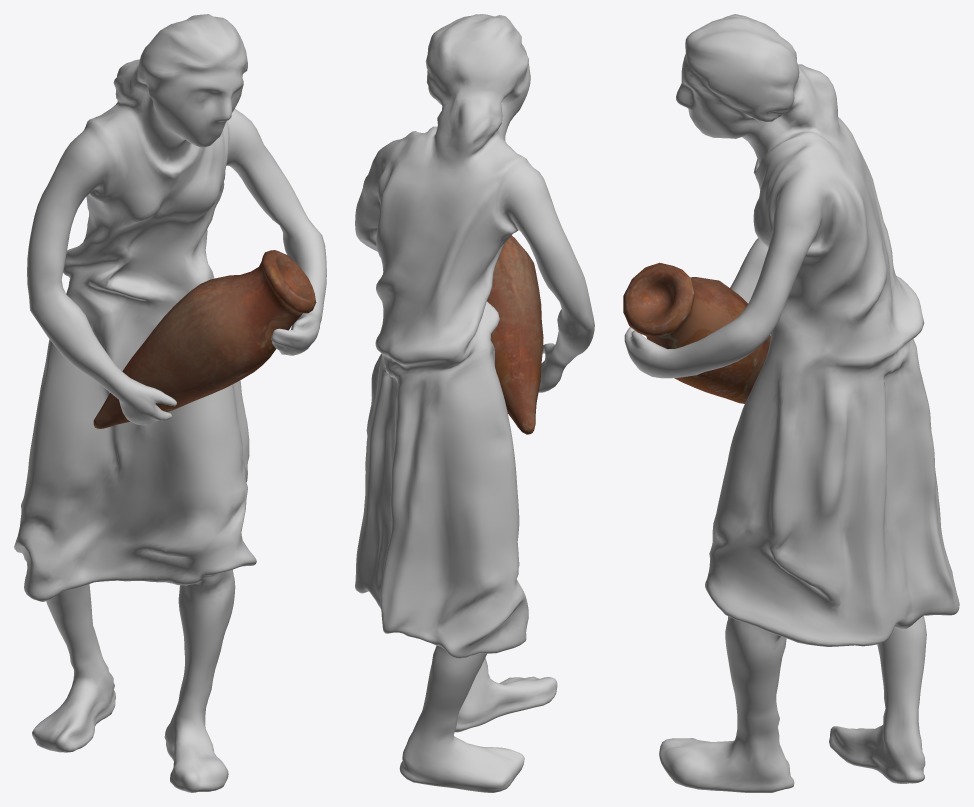
File: [19_0380]_FrauMitAmphore__[Non-Rigged].fbx
3 views of the same model, side by side, from view 1: azimuth 30°, elevation 25°; view 2: azimuth 150°, elevation 25°; view 3: azimuth 270°, elevation 25° (orthographic). The views are drawn at different scales.
Parts seen in each view (by area): view 1: Retopo_Frau_Scan_Filled_13k, Retopo_Ampore_Clean; view 2: Retopo_Frau_Scan_Filled_13k, Retopo_Ampore_Clean; view 3: Retopo_Frau_Scan_Filled_13k, Retopo_Ampore_Clean.
Part boxes in pixels (left/top/right/bottom): Retopo_Frau_Scan_Filled_13k: left=14, top=14, right=326, bottom=792; Retopo_Ampore_Clean: left=93, top=250, right=316, bottom=428; Retopo_Frau_Scan_Filled_13k: left=355, top=14, right=594, bottom=792; Retopo_Ampore_Clean: left=487, top=235, right=543, bottom=434; Retopo_Frau_Scan_Filled_13k: left=624, top=14, right=959, bottom=792; Retopo_Ampore_Clean: left=623, top=262, right=770, bottom=403.
Size of the model in its own units: 58.26 by 156 by 61.61.
